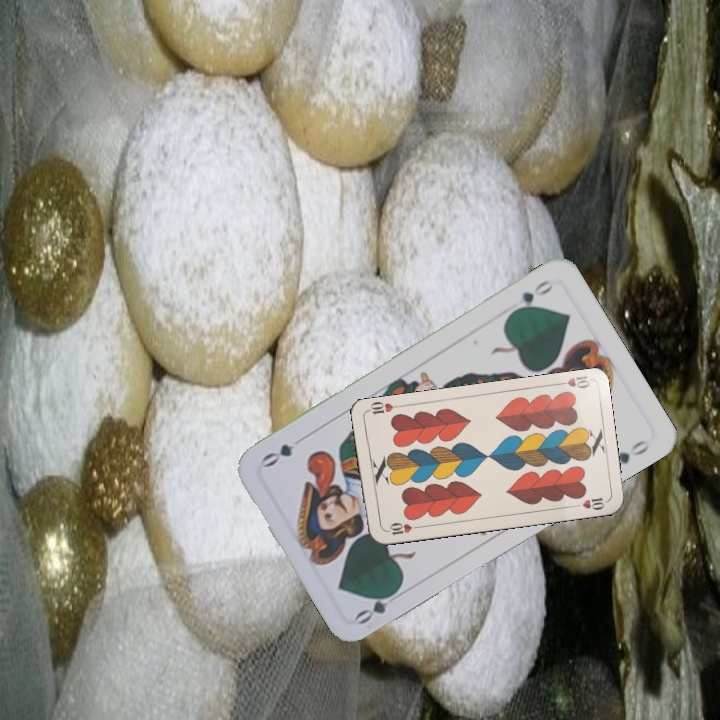GO: (351, 583, 406, 628), (506, 275, 556, 317)
H10: (381, 519, 422, 538), (552, 372, 592, 391)
